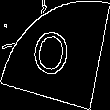O_S: (32, 23, 78, 87)
